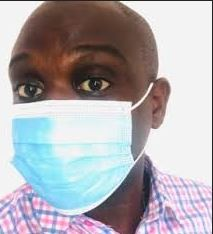with_facemask: (7, 101, 146, 213)
